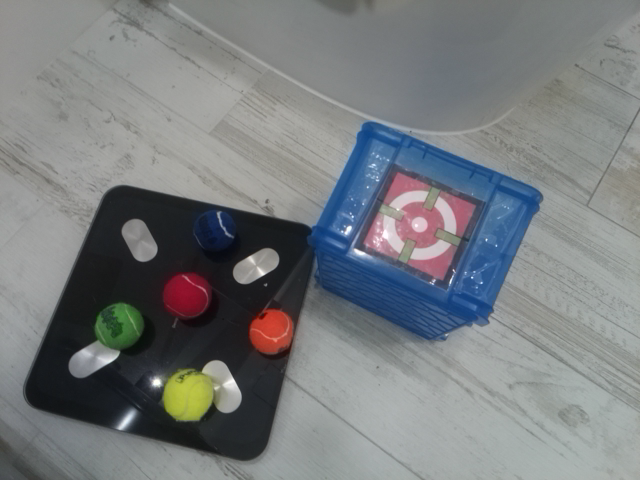blue-ball: (190, 208, 237, 253)
drop-bin: (356, 164, 484, 289)
green-ball: (92, 301, 146, 352)
orange-ball: (246, 308, 295, 358)
red-ball: (161, 270, 213, 322)
yellow-ball: (161, 367, 215, 423)
